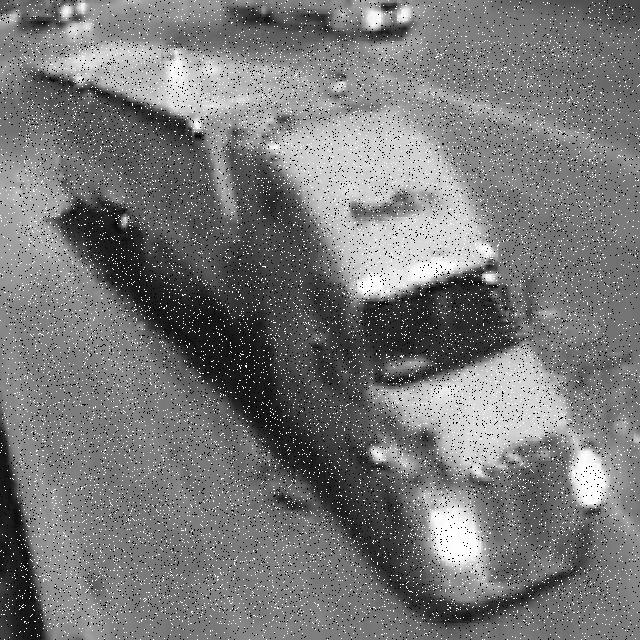Tractor Trailer: (19, 42, 607, 624)
